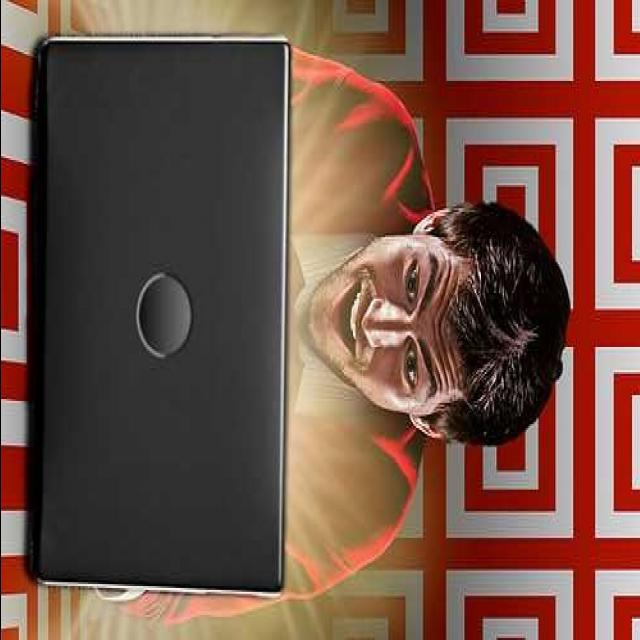laptop: (22, 36, 290, 594)
